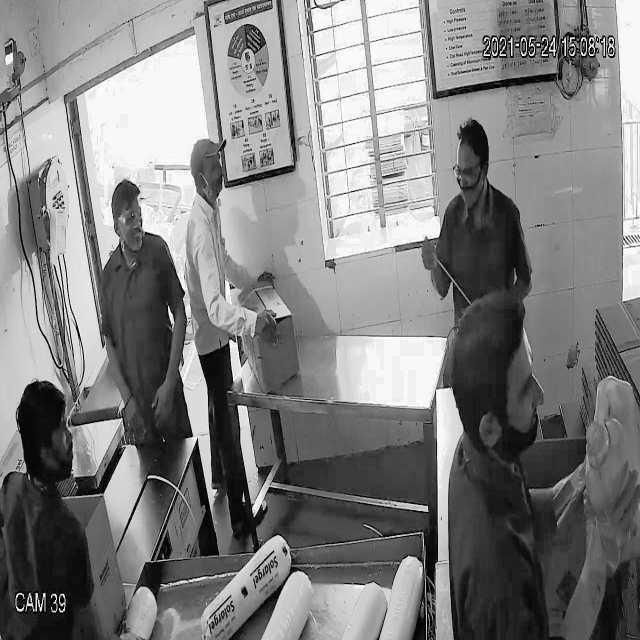Gafas: (452, 156, 485, 188), (111, 199, 144, 231)
